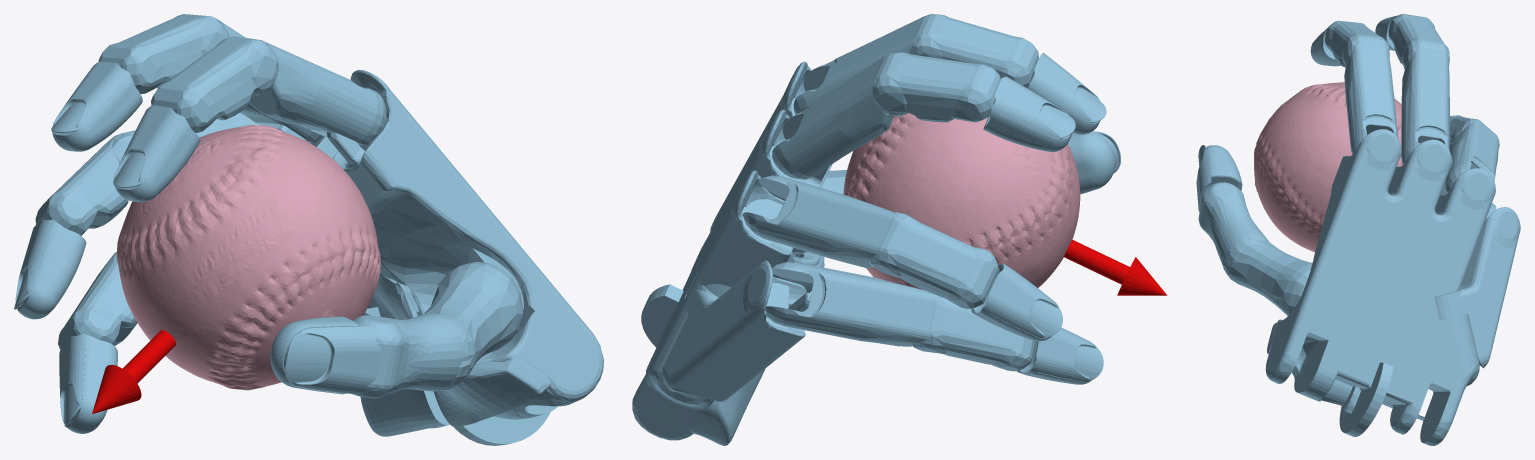
The picture shows the model from 3 angles, left to right: view 1: azimuth 30°, elevation 25°; view 2: azimuth 150°, elevation 25°; view 3: azimuth 270°, elevation 25°; orthographic projection. The views are drawn at different scales.
Parts seen in each view (by area): view 1: world, baseball.stl; view 2: world, baseball.stl; view 3: world, baseball.stl.
Part boxes in pixels (bbox=[...]): world: bbox=[14, 14, 603, 445]; baseball.stl: bbox=[116, 125, 380, 390]; world: bbox=[632, 14, 1167, 445]; baseball.stl: bbox=[843, 112, 1080, 289]; world: bbox=[1196, 14, 1520, 445]; baseball.stl: bbox=[1254, 82, 1420, 252].
Bounding box in the file's own units: 0.1672 × 0.1496 × 0.1335.
